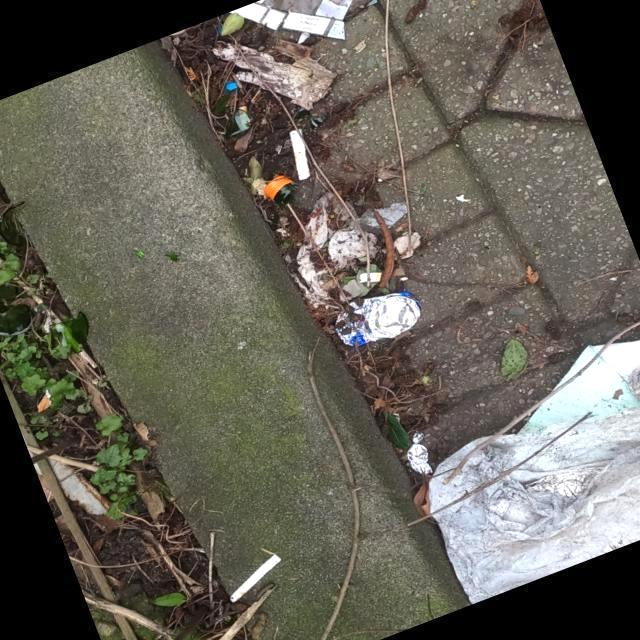Metal: (334, 290, 424, 348)
Paper: (428, 404, 638, 606), (296, 186, 378, 310), (211, 42, 339, 112), (228, 0, 378, 42)
Plastic: (405, 429, 433, 475)
